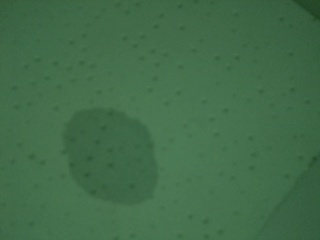Water_detected: (73, 114, 145, 187)
